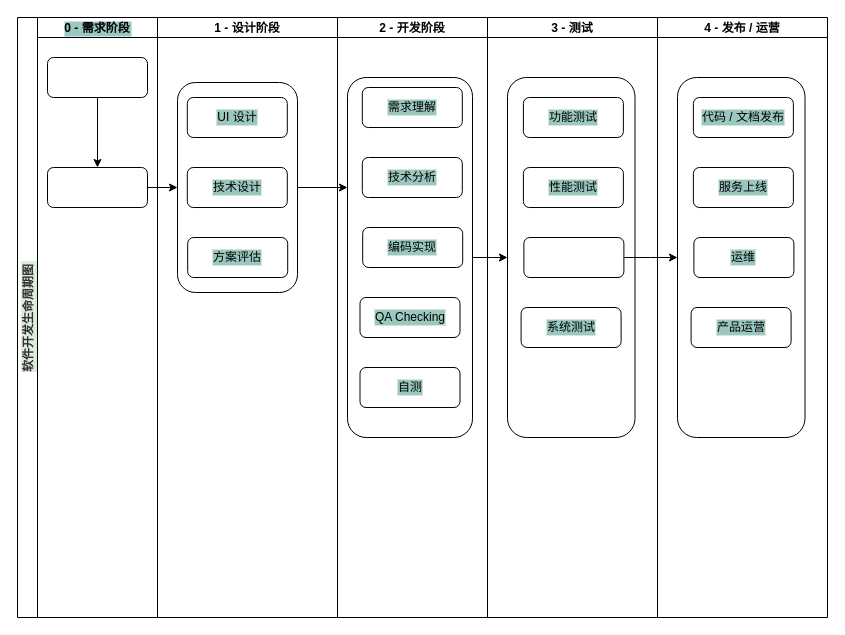
This 845x635 diagram has some shape labels left out. The centre of each missing label's shape, as x and y in pixels:
"市场调研 运营反馈" belongs at (x=97, y=77).
"集成测试" belongs at (x=573, y=257).
"需求分析 / 评估" belongs at (x=97, y=187).
